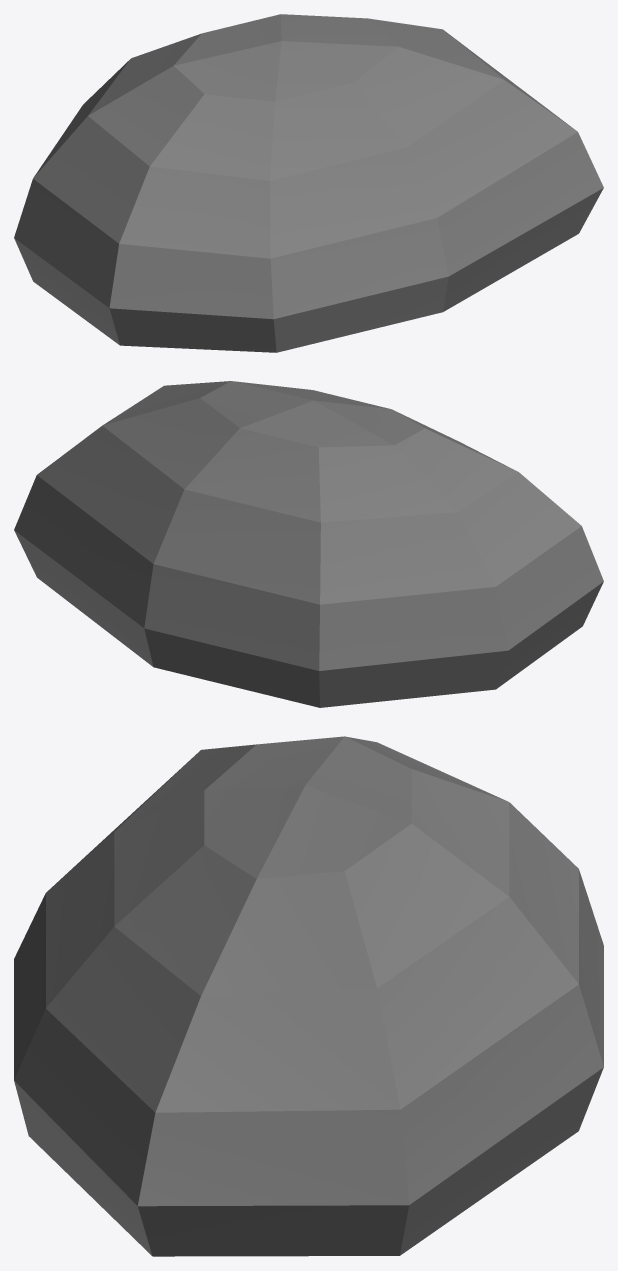
The model's file is PROP_020_Rock(Var1).fbx.
3 views of the same model, one above another, from view 1: azimuth 30°, elevation 25°; view 2: azimuth 150°, elevation 25°; view 3: azimuth 270°, elevation 25° (orthographic). The views are drawn at different scales.
Visible parts, largest first — view 1: PROP_020_Rock(Var1); view 2: PROP_020_Rock(Var1); view 3: PROP_020_Rock(Var1).
Part boxes in pixels (bbox=[...]): PROP_020_Rock(Var1): bbox=[14, 14, 603, 352]; PROP_020_Rock(Var1): bbox=[14, 381, 603, 707]; PROP_020_Rock(Var1): bbox=[14, 736, 603, 1256].
Bounding box in the file's own units: 11.47 × 5.72 × 8.33.
